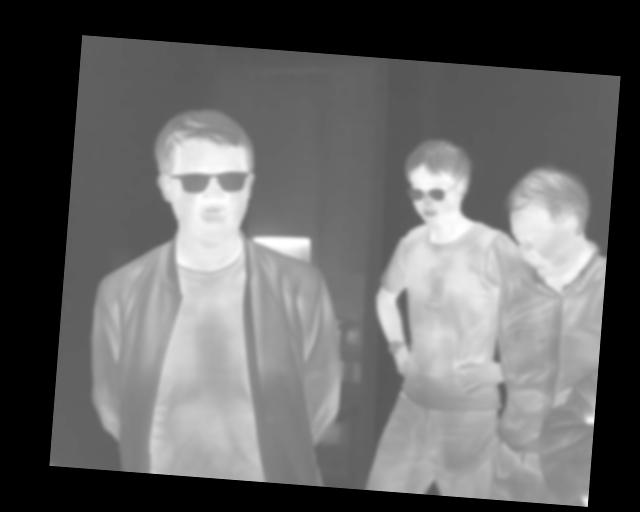face: (147, 102, 260, 247), (502, 160, 594, 283), (399, 135, 476, 227)
